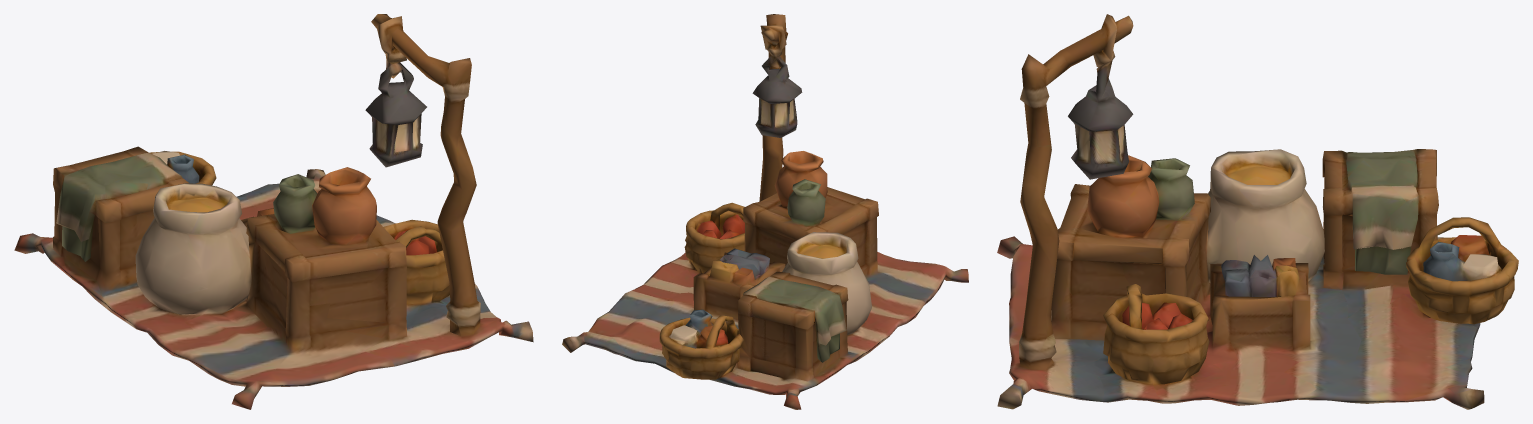
File: stall.glb
3 renders of one model, left to right at view 1: azimuth 30°, elevation 25°; view 2: azimuth 150°, elevation 25°; view 3: azimuth 270°, elevation 25°, orthographic. The views are drawn at different scales.
Visible parts, largest first — view 1: tripo_node_d08b00d3-4d42-4119-a8fb-e668ae71bd12; view 2: tripo_node_d08b00d3-4d42-4119-a8fb-e668ae71bd12; view 3: tripo_node_d08b00d3-4d42-4119-a8fb-e668ae71bd12.
Part boxes in pixels (x1,y1,x2,y2): tripo_node_d08b00d3-4d42-4119-a8fb-e668ae71bd12: (14,14,533,409); tripo_node_d08b00d3-4d42-4119-a8fb-e668ae71bd12: (562,14,968,409); tripo_node_d08b00d3-4d42-4119-a8fb-e668ae71bd12: (997,14,1518,409).
Size of the model in its own units: 0.747 by 0.7251 by 1.
Materials: 1 (1 with a texture image).
